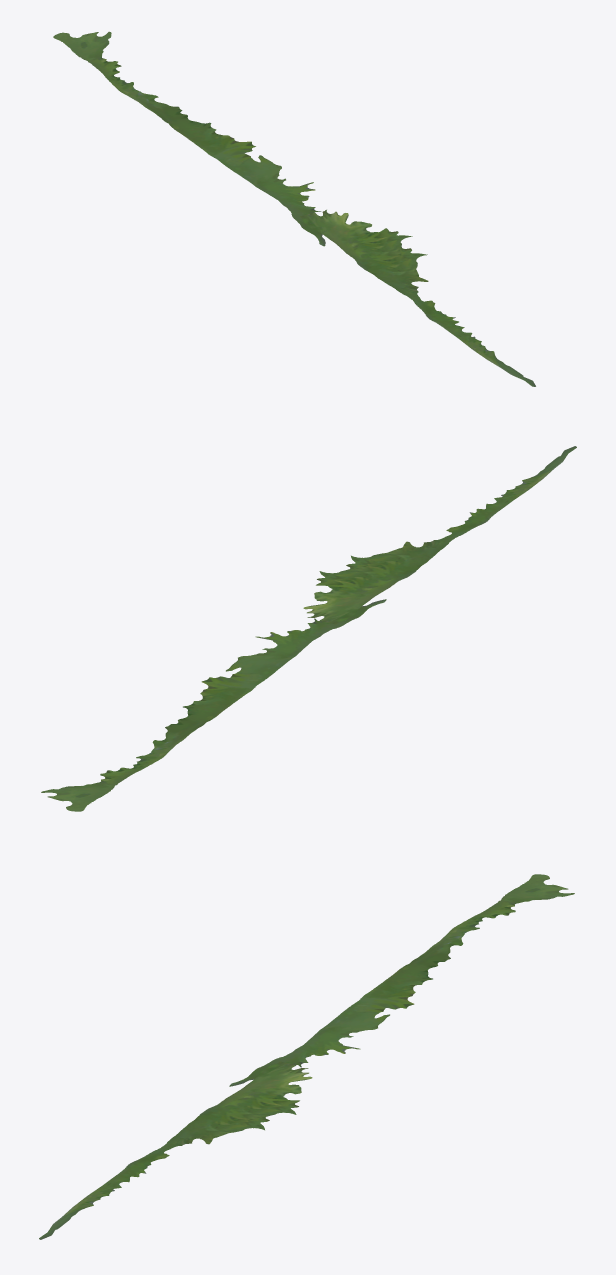
The model's file is dianmiancao01.FBX.
3 renders of one model, top to bottom at view 1: azimuth 30°, elevation 25°; view 2: azimuth 150°, elevation 25°; view 3: azimuth 330°, elevation 25°, orthographic. The views are drawn at different scales.
Parts seen in each view (by area): view 1: dianmiancao01; view 2: dianmiancao01; view 3: dianmiancao01.
Part boxes in pixels (<box>): dianmiancao01: <box>53,31,535,386</box>; dianmiancao01: <box>41,446,576,811</box>; dianmiancao01: <box>39,874,574,1239</box>.
Size of the model in its own units: 39.17 by 1.55e-05 by 354.
